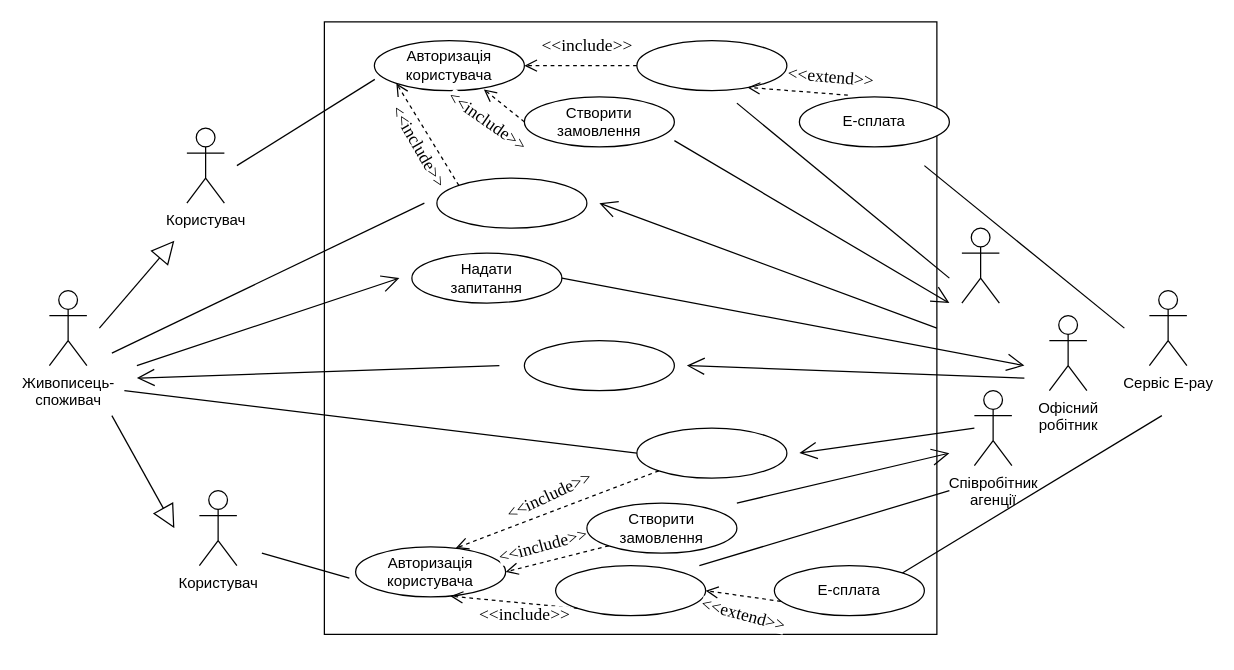
This 1234x670 diagram has some shape labels left out. Here are the shapes that lost their labels. From the top down, the centre of each, then its label:
point 711,65: Сплатити замовлення
point 511,202: Відправити замовлення
point 980,265: Продавець консультант
point 598,365: Надіслати відповідь
point 711,452: Оформити договір
point 630,590: Сплатити житло
